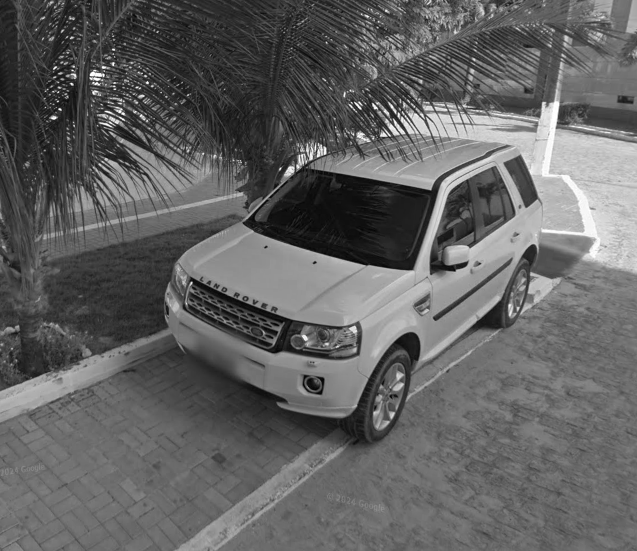car: (159, 128, 548, 442)
